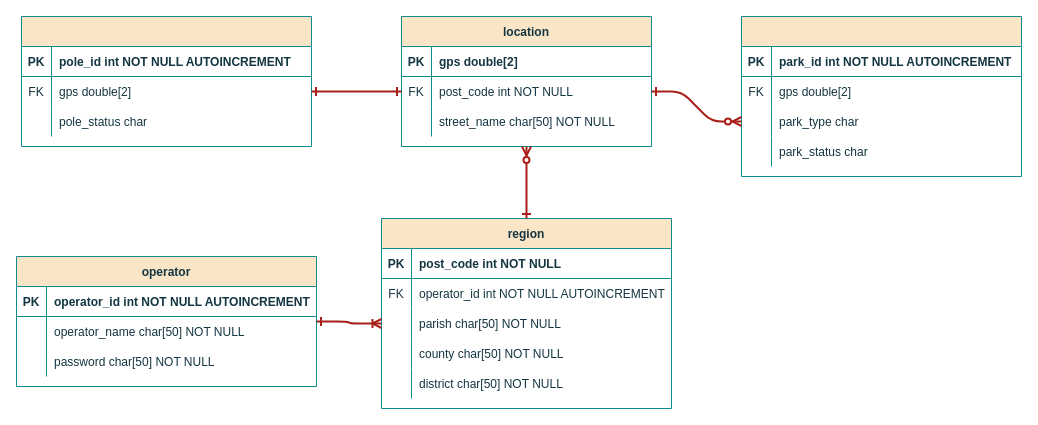
This 1038x425 diagram has some shape labels left out. Here are the shapes that lost their labels. From the top down, the box of each, then its label:
(20, 16, 312, 146): lamppost
(740, 16, 1022, 176): parking_space
